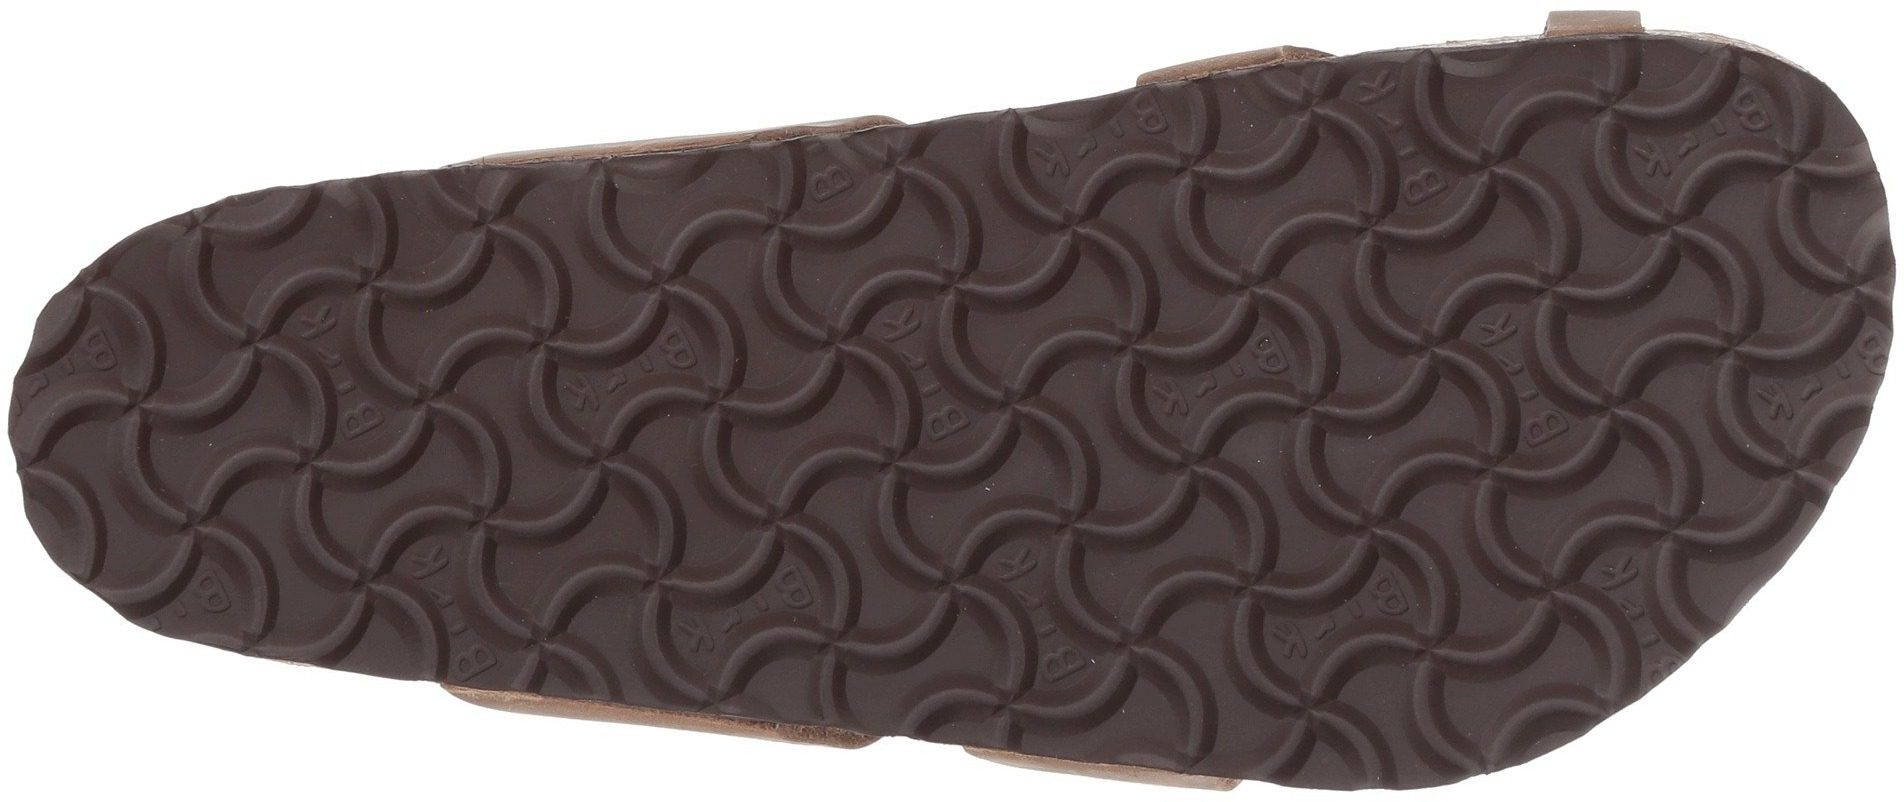bowtie: (640, 174, 1132, 662), (1135, 96, 1523, 468), (1525, 81, 1860, 419), (1175, 475, 1489, 763), (355, 190, 629, 485), (68, 298, 348, 583), (1506, 481, 1683, 676), (368, 498, 552, 671)
text: (640, 174, 1132, 662), (1135, 96, 1523, 468), (1525, 81, 1860, 419), (1175, 475, 1489, 763), (355, 190, 629, 485), (68, 298, 348, 583), (1506, 481, 1683, 676), (368, 498, 552, 671)
